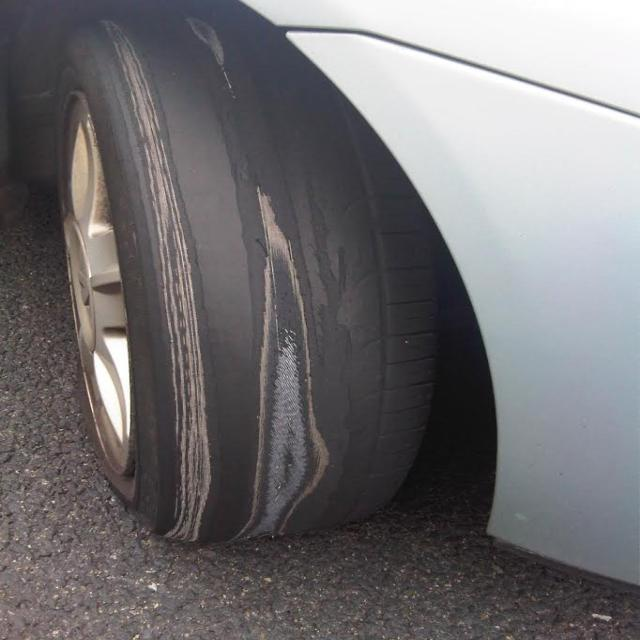Flat spots: (209, 97, 355, 529)
